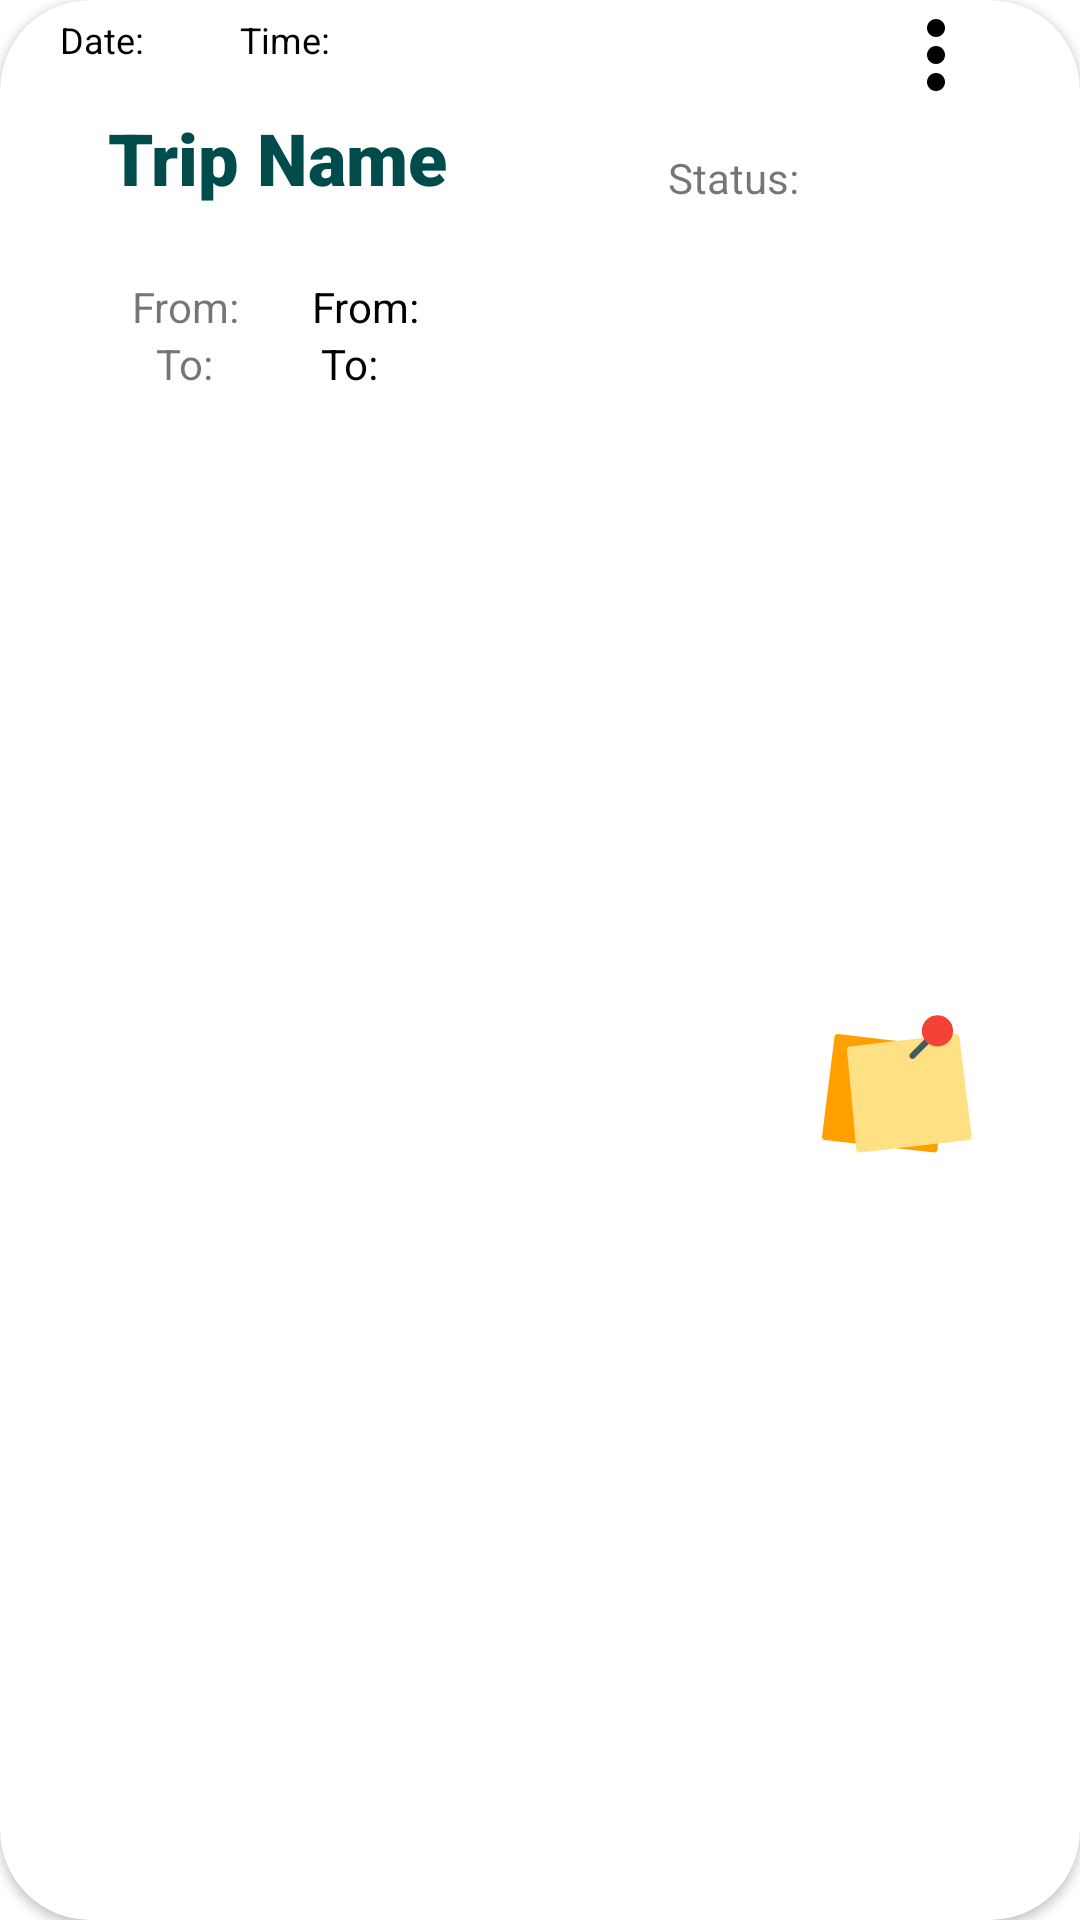

Icons on this 1080 x 1920 Android screen, each with its box as (x1, y1, x2, y2):
mune: (927, 19, 945, 91)
notes: (822, 1015, 972, 1153)
